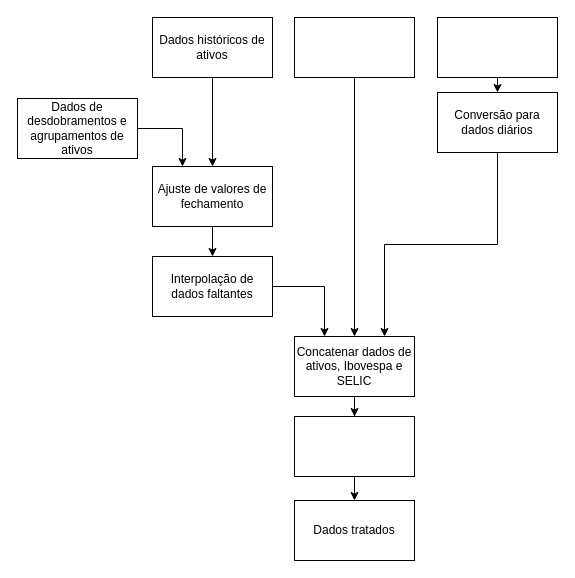
The diagram is 575 pixels wide and 578 high, and some of its shapes have lost their labels. Here are the shapes that lost their labels. From the top down, the centre of each, then its label:
At (354,47): "Dados históricos Ibovespa".
At (497,47): "Dados históricos SELIC".
At (354,446): "Remoção de períodos com dados faltantes".
